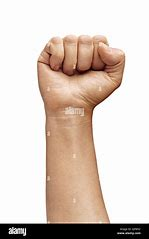closed: (36, 34, 126, 110)
